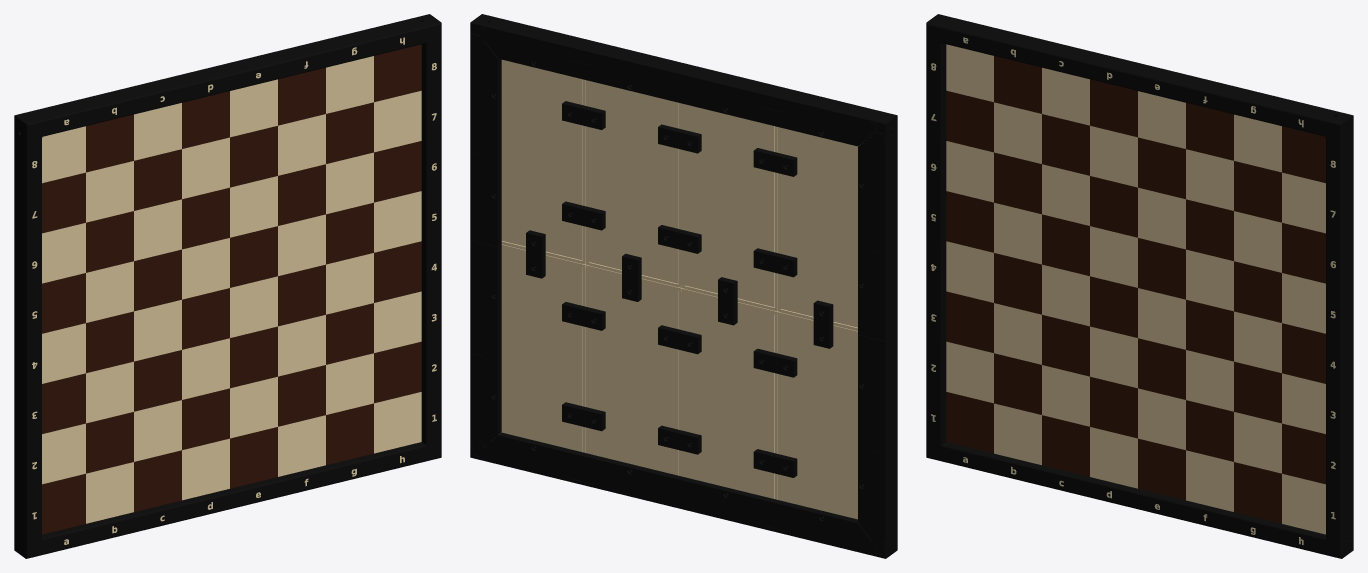
File: .eight_panel_chessboard_assembly.step.glb
The picture shows the model from 3 angles, left to right: view 1: azimuth 30°, elevation 25°; view 2: azimuth 150°, elevation 25°; view 3: azimuth 330°, elevation 25°; orthographic projection.
Parts seen in each view (by area): view 1: o1.2.1, o1.3.1, o1.4.1, o1.7.1, o1.6.1, o1.8.1, o1.1.1, o1.5.1, o1.13.1, o1.14.1, o1.11.1, o1.12.1 (+37 smaller); view 2: o1.2.1, o1.3.1, o1.6.1, o1.7.1, o1.1.1, o1.4.1, o1.5.1, o1.8.1, o1.14.1, o1.13.1, o1.12.1, o1.11.1 (+21 smaller); view 3: o1.1.1, o1.3.1, o1.2.1, o1.6.1, o1.7.1, o1.5.1, o1.4.1, o1.8.1, o1.15.1, o1.16.1, o1.12.1, o1.11.1 (+37 smaller).
Part boxes in pixels (left/top/right/bottom): o1.2.1: left=134, top=300, right=229, bottom=500; o1.3.1: left=230, top=276, right=325, bottom=476; o1.4.1: left=326, top=253, right=421, bottom=453; o1.7.1: left=230, top=79, right=325, bottom=275; o1.6.1: left=134, top=103, right=229, bottom=299; o1.8.1: left=326, top=56, right=421, bottom=252; o1.1.1: left=42, top=323, right=133, bottom=523; o1.5.1: left=42, top=126, right=133, bottom=322; o1.13.1: left=14, top=333, right=41, bottom=542; o1.14.1: left=14, top=132, right=41, bottom=341; o1.11.1: left=30, top=65, right=234, bottom=136; o1.12.1: left=222, top=18, right=426, bottom=89; o1.2.1: left=678, top=285, right=777, bottom=498; o1.3.1: left=582, top=262, right=681, bottom=475; o1.6.1: left=678, top=103, right=777, bottom=311; o1.7.1: left=582, top=79, right=681, bottom=287; o1.1.1: left=774, top=309, right=857, bottom=519; o1.4.1: left=490, top=241, right=585, bottom=452; o1.5.1: left=774, top=126, right=865, bottom=327; o1.8.1: left=501, top=59, right=585, bottom=264; o1.14.1: left=858, top=132, right=897, bottom=341; o1.13.1: left=858, top=333, right=897, bottom=547; o1.12.1: left=480, top=18, right=689, bottom=102; o1.11.1: left=678, top=64, right=881, bottom=146; o1.1.1: left=946, top=241, right=1041, bottom=465; o1.3.1: left=1138, top=288, right=1233, bottom=511; o1.2.1: left=1042, top=264, right=1137, bottom=488; o1.6.1: left=1042, top=67, right=1137, bottom=287; o1.7.1: left=1138, top=91, right=1233, bottom=311; o1.5.1: left=946, top=44, right=1041, bottom=264; o1.4.1: left=1234, top=311, right=1325, bottom=534; o1.8.1: left=1234, top=114, right=1325, bottom=333; o1.15.1: left=1326, top=333, right=1353, bottom=542; o1.16.1: left=1326, top=132, right=1353, bottom=341; o1.12.1: left=1133, top=65, right=1337, bottom=136; o1.11.1: left=941, top=18, right=1145, bottom=89.
Bounding box in the file's own units: 0.52 × 0.52 × 0.0276.
